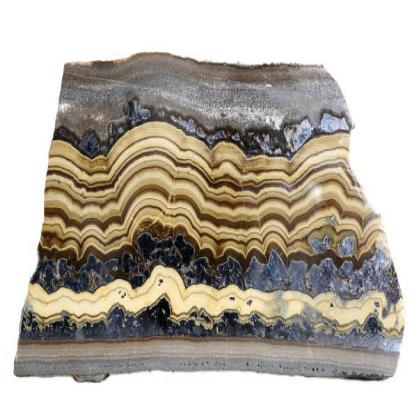Metamorphic_Marble: (8, 39, 409, 389)
